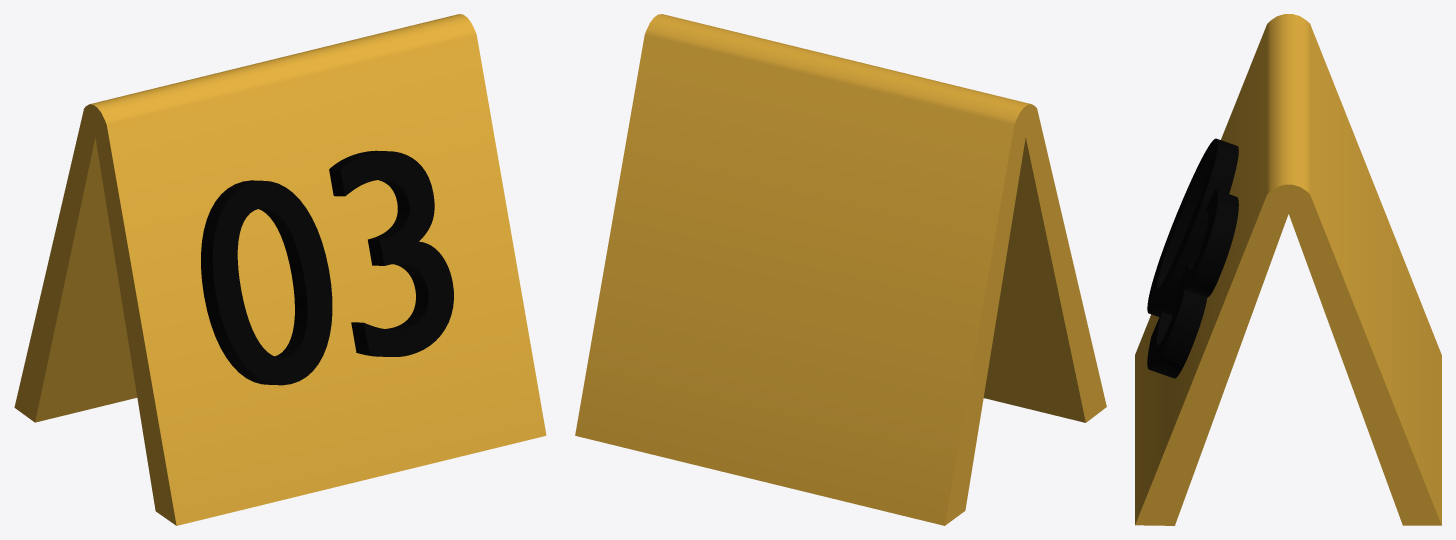
3 views of the same model, side by side, from view 1: azimuth 30°, elevation 25°; view 2: azimuth 150°, elevation 25°; view 3: azimuth 270°, elevation 25° (orthographic). The views are drawn at different scales.
Parts seen in each view (by area): view 1: Bordje, Text.002; view 2: Bordje; view 3: Bordje, Text.002.
Boxes of the visible parts, <box> form: Bordje: <box>14,14,546,525</box>; Text.002: <box>201,150,453,385</box>; Bordje: <box>575,14,1106,525</box>; Bordje: <box>1135,14,1441,525</box>; Text.002: <box>1147,138,1238,378</box>.
Bounding box in the file's own units: 342 × 319 × 260.
